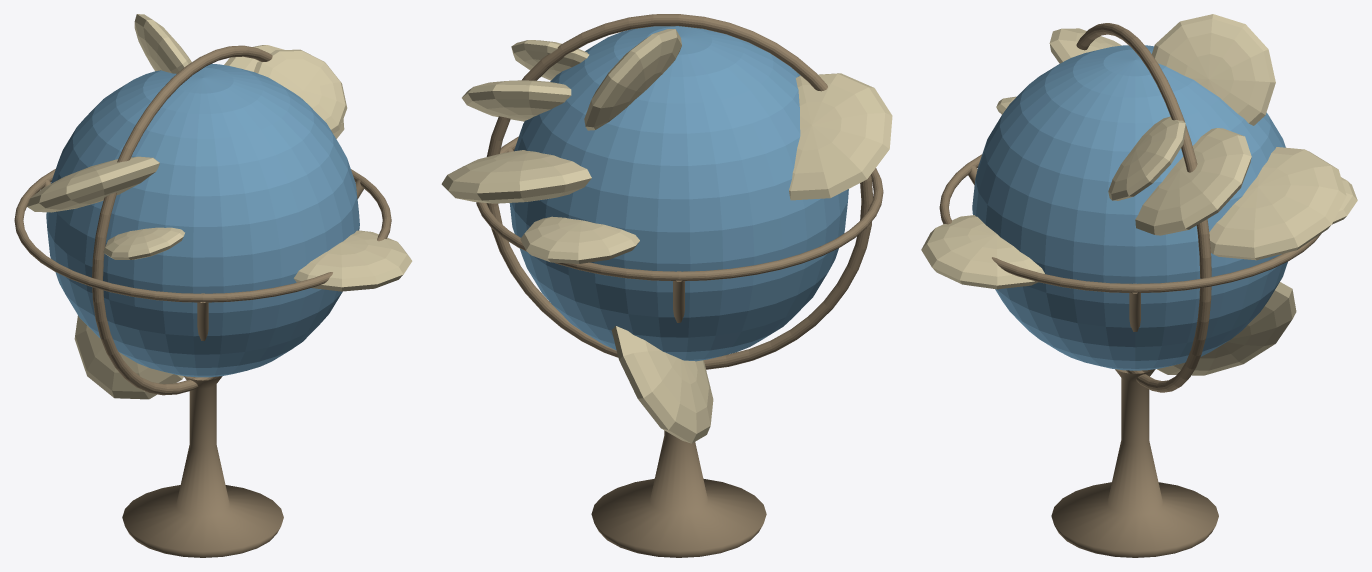
File: globe_stand.glb
The picture shows the model from 3 angles, left to right: view 1: azimuth 30°, elevation 25°; view 2: azimuth 150°, elevation 25°; view 3: azimuth 270°, elevation 25°; orthographic projection. The views are drawn at different scales.
Visible parts, largest first — view 1: globe_stand; view 2: globe_stand; view 3: globe_stand.
Boxes of the visible parts, x1,y1,x2,y2 form: globe_stand: [14, 14, 412, 557]; globe_stand: [441, 14, 892, 557]; globe_stand: [921, 14, 1357, 557].
Bounding box in the file's own units: 1.76 × 2.37 × 1.87.
